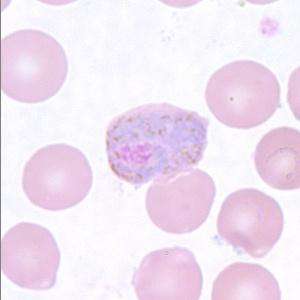Infected: (104, 102, 210, 185)
Uninfected: (205, 59, 281, 131), (0, 28, 68, 103), (22, 142, 93, 211), (214, 187, 284, 255), (146, 169, 216, 234), (0, 220, 60, 291), (132, 246, 204, 300), (255, 127, 300, 192), (212, 260, 281, 300)
